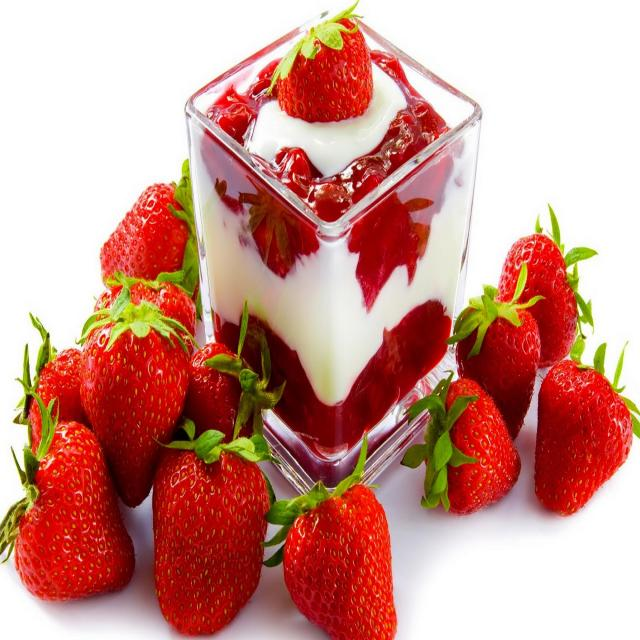Quả dâu tây: (0, 390, 136, 603), (261, 432, 398, 639), (78, 273, 196, 507), (151, 418, 276, 636), (534, 339, 640, 516), (445, 265, 545, 441), (400, 372, 521, 516), (496, 203, 598, 368), (185, 300, 286, 446), (266, 1, 374, 124), (13, 311, 89, 456), (99, 179, 189, 291), (90, 272, 197, 356), (185, 341, 252, 444)
